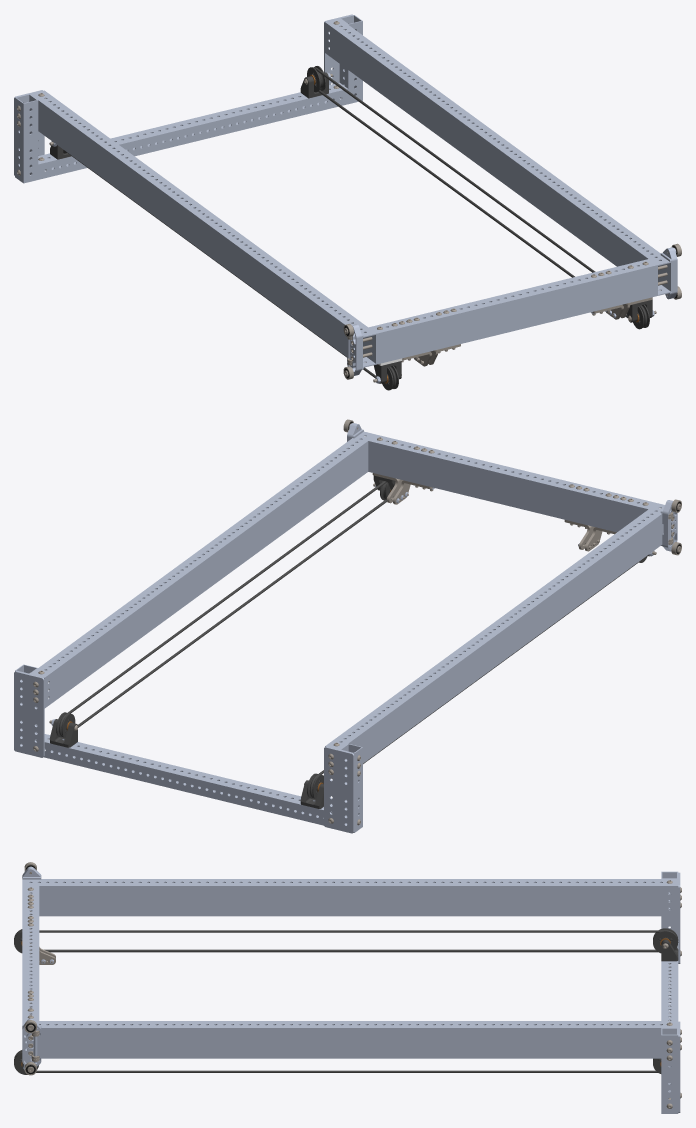
3 renders of one model, top to bottom at view 1: azimuth 30°, elevation 25°; view 2: azimuth 150°, elevation 25°; view 3: azimuth 270°, elevation 25°, orthographic.
Visible parts, largest first — view 1: WCP-CC2025-03-005:1, WCP-CC2025-03-005:2, WCP-CC2025-03-004:1, WCP-CC2025-03-006:1, WCP-CC2025-03-028:1, WCP-CC2025-03-010:2, WCP-CC2025-03-010:1; view 2: WCP-CC2025-03-005:1, WCP-CC2025-03-005:2, WCP-CC2025-03-004:1, WCP-CC2025-03-006:1, WCP-CC2025-03-028:1, WCP-CC2025-03-013:1, WCP-CC2025-03-013:2, WCP-CC2025-03-010:2; view 3: WCP-CC2025-03-005:2, WCP-CC2025-03-005:1, WCP-CC2025-03-028:2, WCP-CC2025-03-004:1, WCP-CC2025-03-028:1, WCP-CC2025-03-010:1, WCP-CC2025-03-006:1, WCP-0897-001 Rev1:1, WCP-CC2025-03-010:2.
Boxes of the visible parts, box(x1,y1,x2,y2) form: WCP-CC2025-03-005:1: box(325, 18, 671, 295); WCP-CC2025-03-005:2: box(30, 90, 376, 367); WCP-CC2025-03-004:1: box(368, 259, 657, 364); WCP-CC2025-03-006:1: box(38, 82, 348, 179); WCP-CC2025-03-028:1: box(313, 67, 646, 327); WCP-CC2025-03-010:2: box(15, 94, 38, 183); WCP-CC2025-03-010:1: box(339, 15, 362, 104); WCP-CC2025-03-005:1: box(30, 431, 376, 708); WCP-CC2025-03-005:2: box(325, 503, 664, 778); WCP-CC2025-03-004:1: box(368, 435, 656, 532); WCP-CC2025-03-006:1: box(35, 733, 332, 825); WCP-CC2025-03-028:1: box(59, 481, 386, 737); WCP-CC2025-03-013:1: box(14, 671, 44, 757); WCP-CC2025-03-013:2: box(324, 746, 354, 833); WCP-CC2025-03-010:2: box(340, 743, 362, 832); WCP-CC2025-03-005:2: box(22, 879, 678, 916); WCP-CC2025-03-005:1: box(22, 1021, 678, 1058); WCP-CC2025-03-028:2: box(16, 930, 675, 952); WCP-CC2025-03-004:1: box(22, 886, 39, 1020); WCP-CC2025-03-028:1: box(16, 1052, 657, 1072); WCP-CC2025-03-010:1: box(661, 1028, 678, 1113); WCP-CC2025-03-006:1: box(661, 943, 678, 1091); WCP-0897-001 Rev1:1: box(22, 1018, 41, 1066); WCP-CC2025-03-010:2: box(661, 871, 678, 941).
Size of the model in its own units: 0.5893 by 0.1526 by 1.01.
